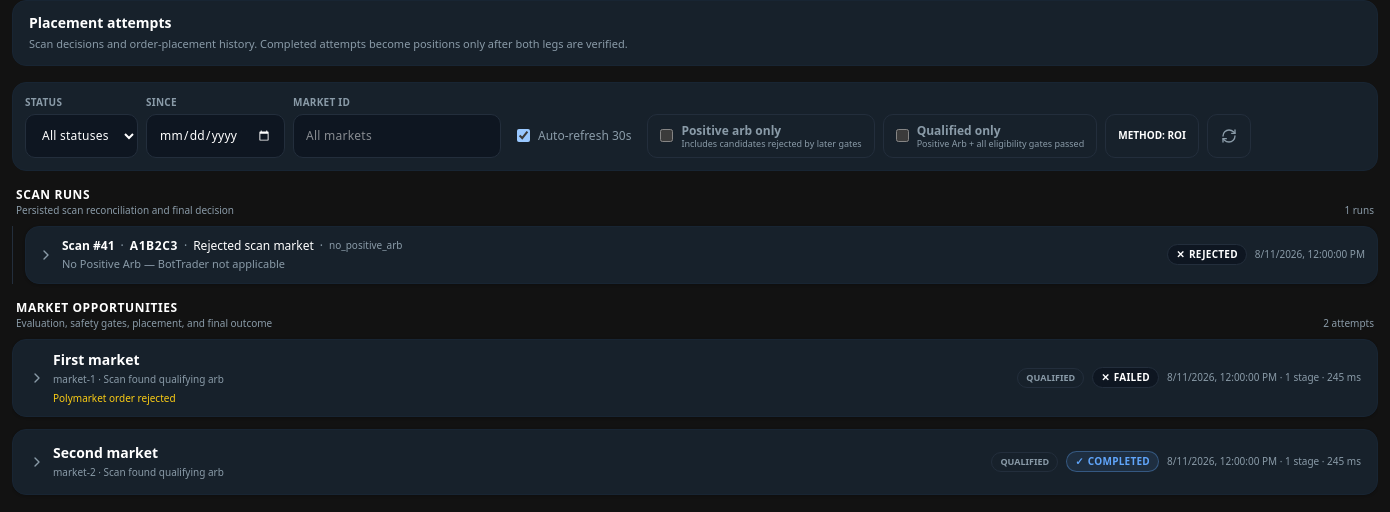
BotActionLogs placement filters › composes qualification with the other filters and restores the full result set
Expected: the text "Second market" is shown, [53,443,158,462]
Select "Failed" in the dropdown labelled "Status" at (82, 136), box [25,114,138,158]
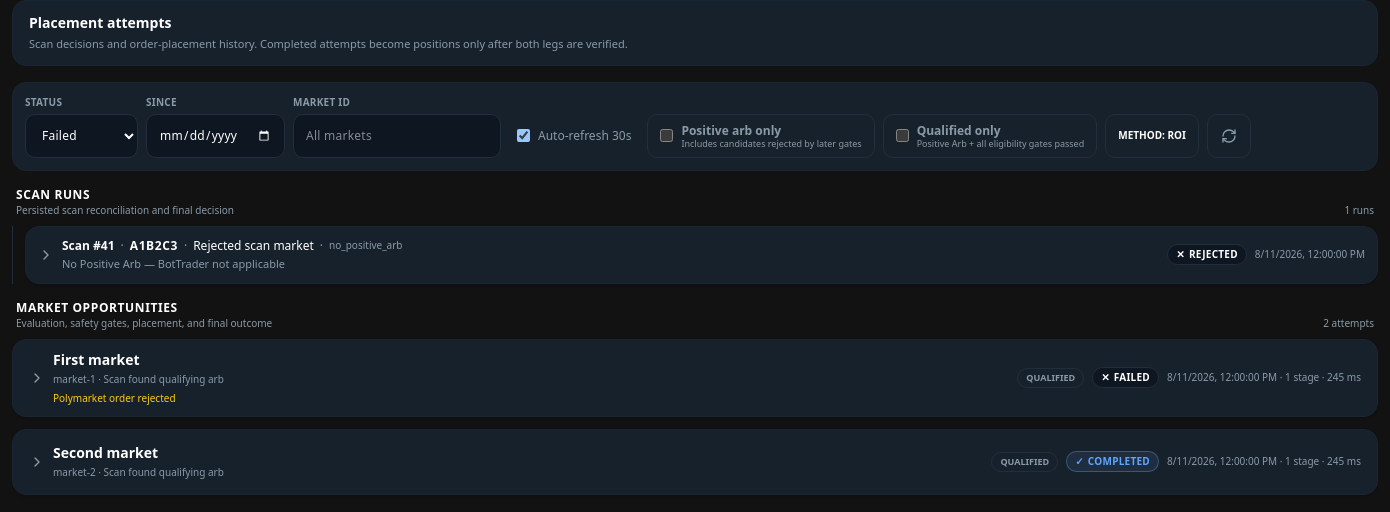
Type "2026-08-01" into the date field labelled "Since" at (216, 136), box [146,114,285,158]
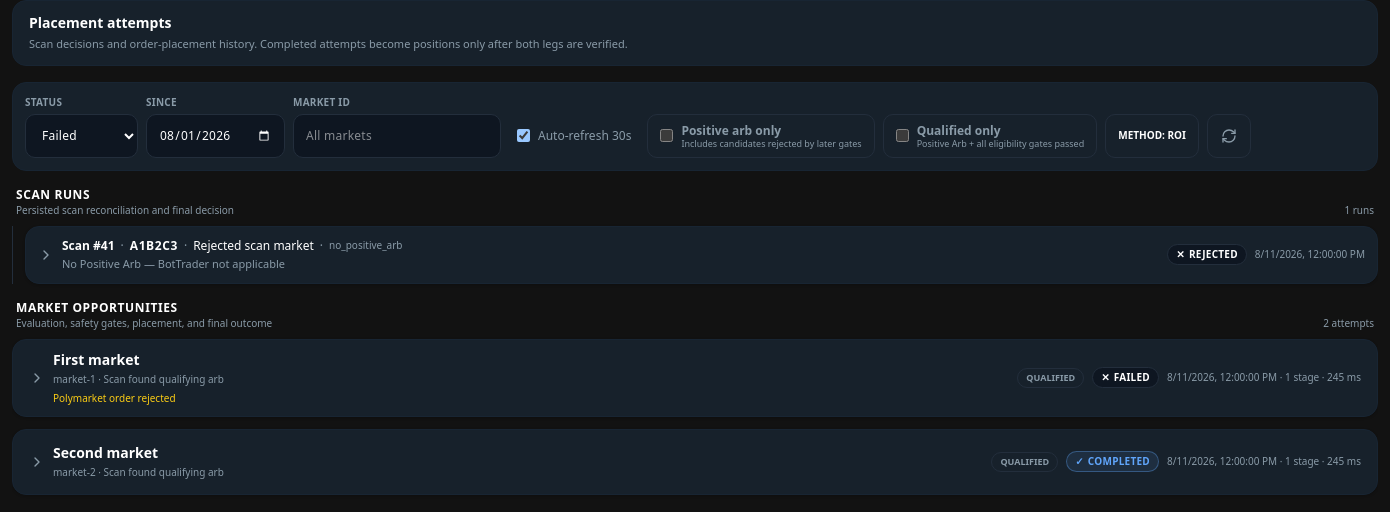
Type "market-1" into the field with placeholder "All markets" at (397, 136), box [293,114,501,158]
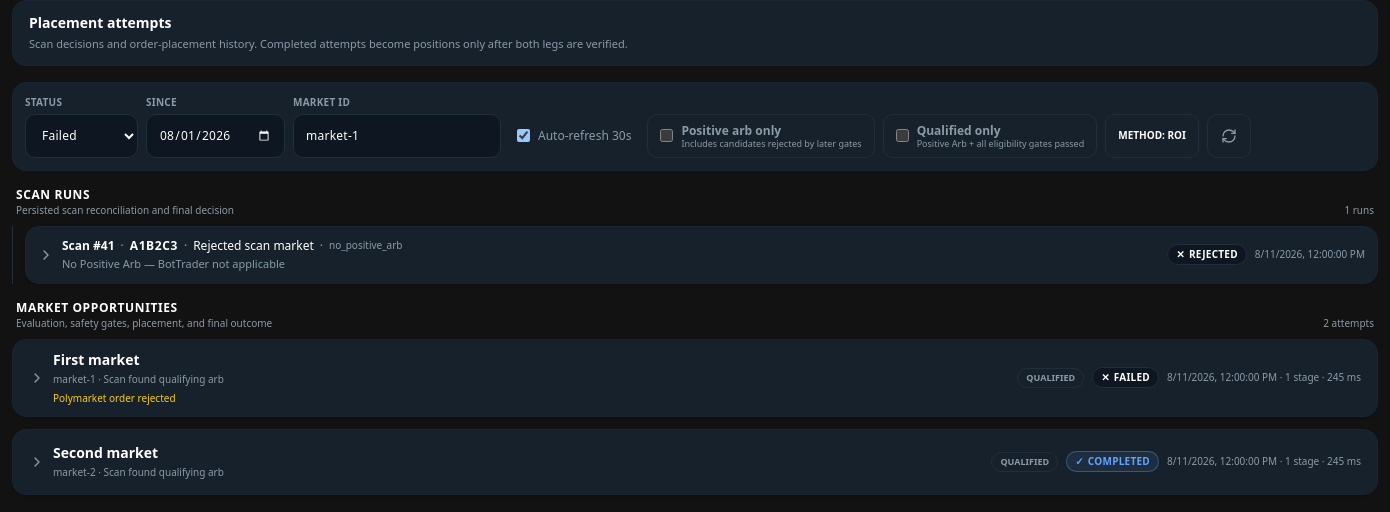
Click the checkbox labelled "Qualified only" at (902, 136), box [896,129,909,142]
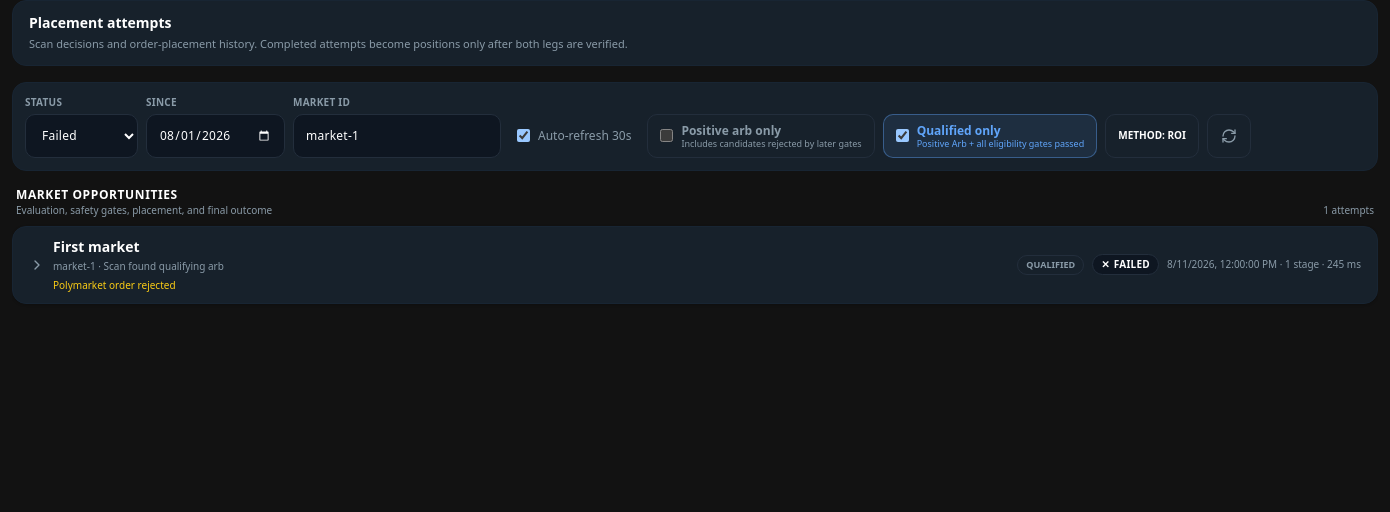
Result: the button "Second market" is gone
Result: the button "No Positive Arb — BotTrader not applicable" is gone
Result: the text "1 attempts" is shown at [1323,203,1374,218]
Click the button named "Refresh action logs" at (1229, 136), box [1207,114,1251,158]
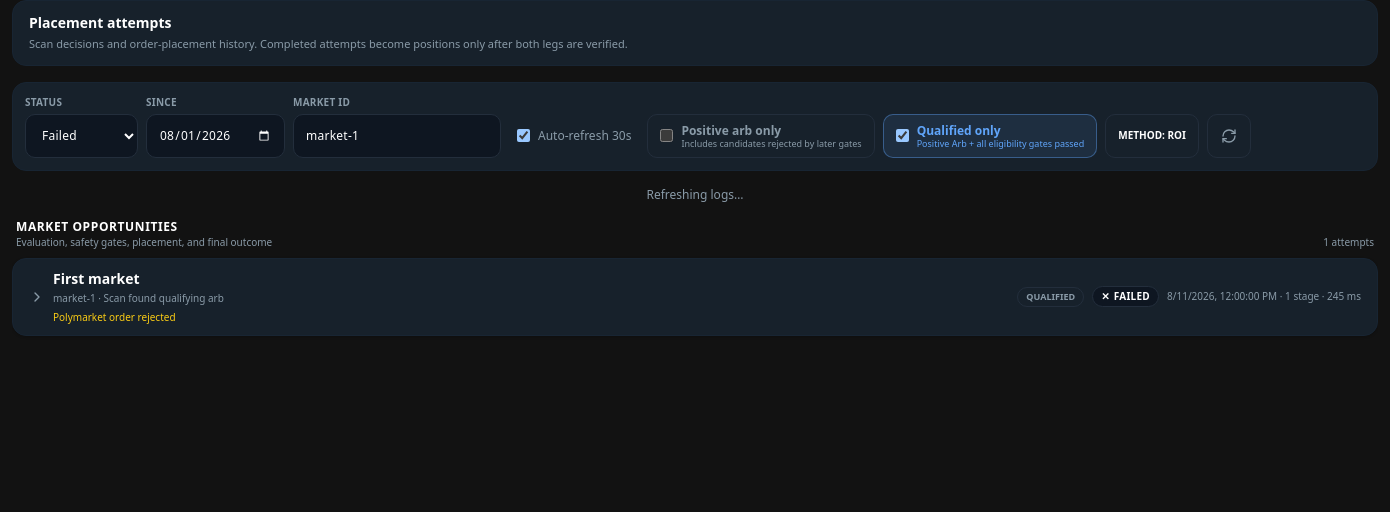
Click the checkbox labelled "Qualified only" at (902, 136), box [896,129,909,142]
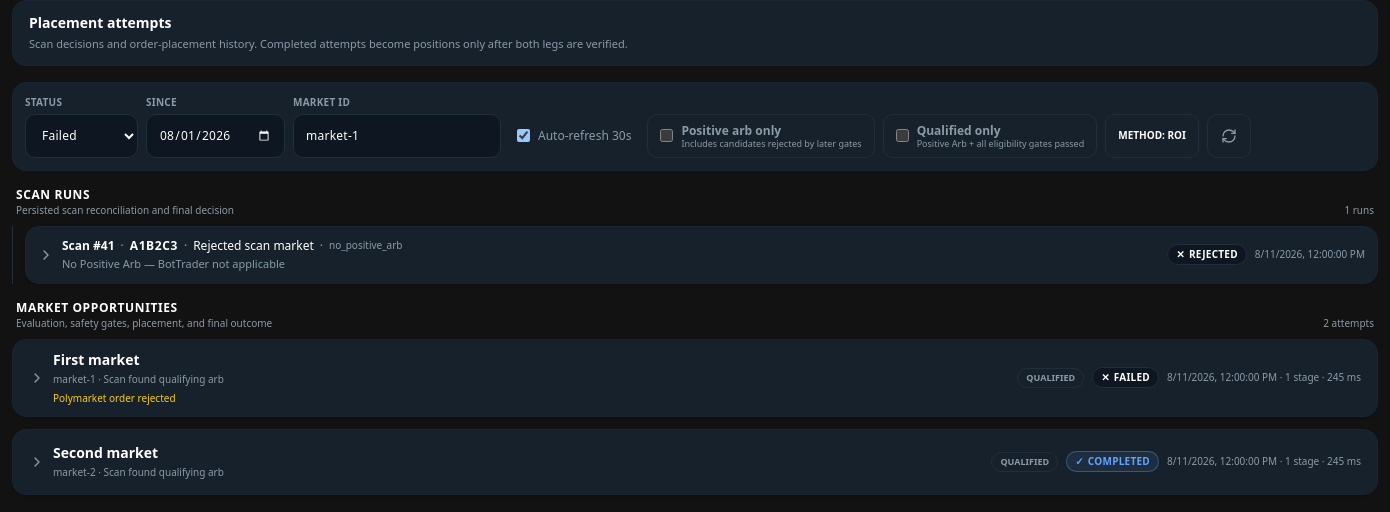
Expected: the text "Method: roi" is shown, [1105,114,1199,158]
Result: the text "Second market" is shown at [53,443,158,462]
Result: the text "No Positive Arb — BotTrader not applicable" is shown at [62,256,285,271]
